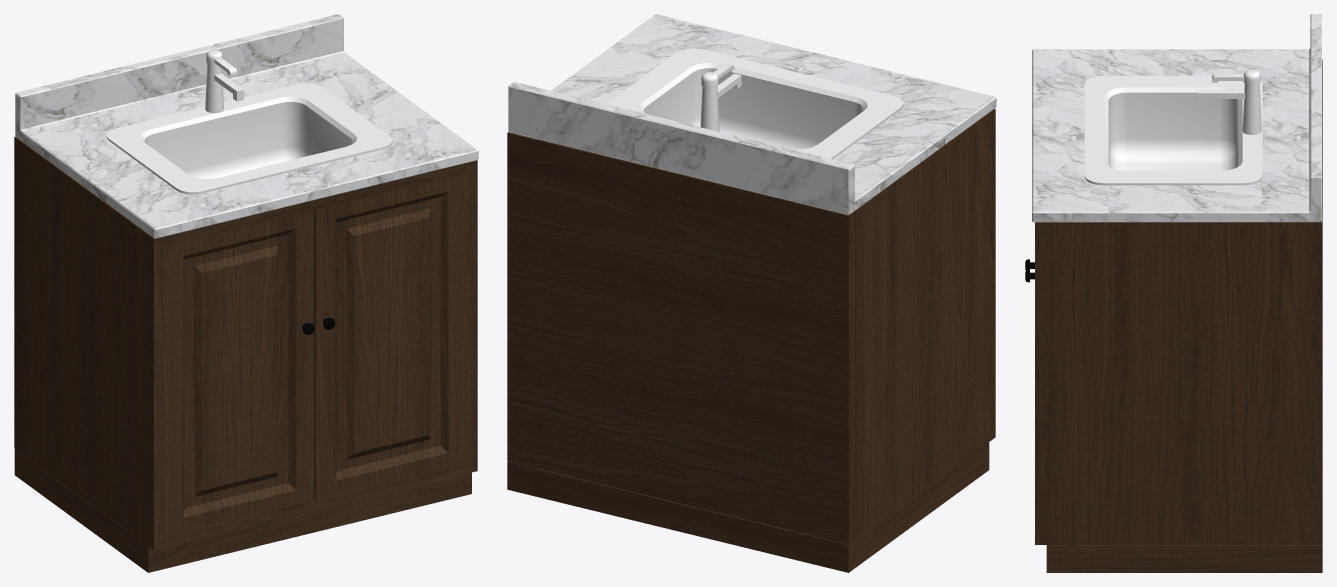
Rendered from lavamanosalacena1.glb.
The picture shows the model from 3 angles, left to right: view 1: azimuth 30°, elevation 25°; view 2: azimuth 150°, elevation 25°; view 3: azimuth 270°, elevation 25°; orthographic projection. The views are drawn at different scales.
Parts seen in each view (by area): view 1: kitchen3:pCube2_0; view 2: kitchen3:pCube2_0; view 3: kitchen3:pCube2_0.
Boxes of the visible parts, x1=… form: kitchen3:pCube2_0: x1=14, y1=14, x2=478, y2=572; kitchen3:pCube2_0: x1=507, y1=14, x2=996, y2=572; kitchen3:pCube2_0: x1=1025, y1=14, x2=1322, y2=572.
Size of the model in its own units: 1.03 by 1.24 by 0.7932.
Materials: 1 (1 with a texture image).
